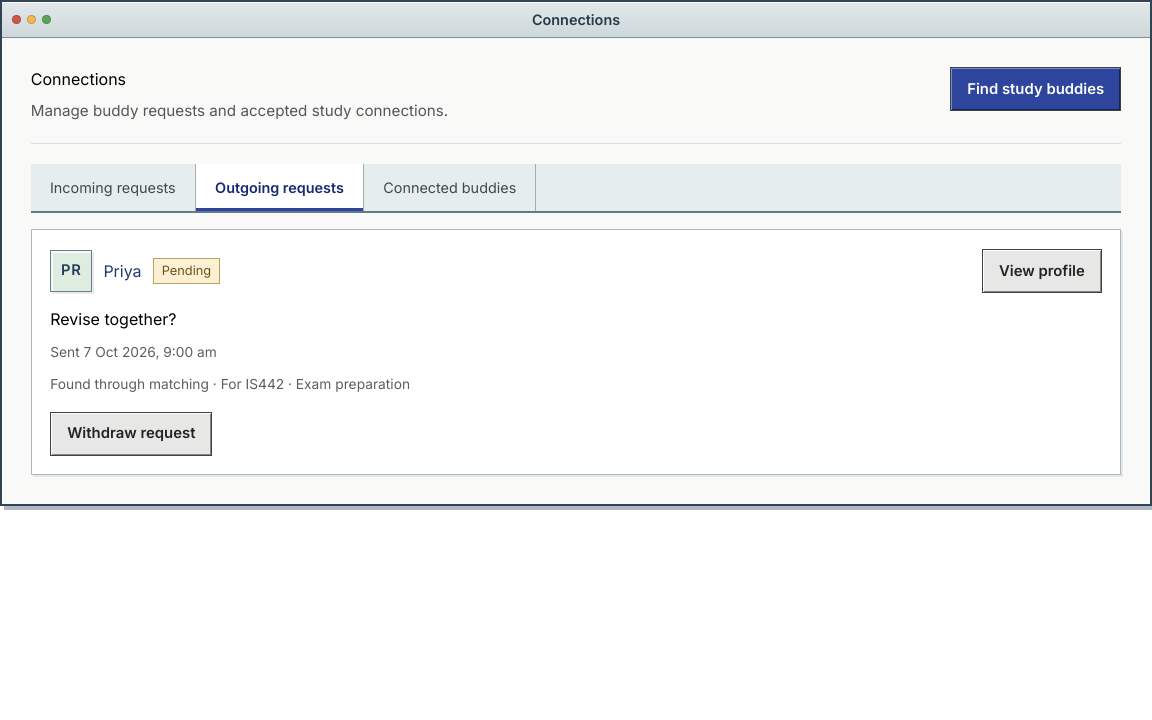
Test: buddy requests and connections › lets the sender withdraw a pending outgoing request after confirming
Click the button "Withdraw request". click: coordinates (131, 434)
box: [50,412,212,456]
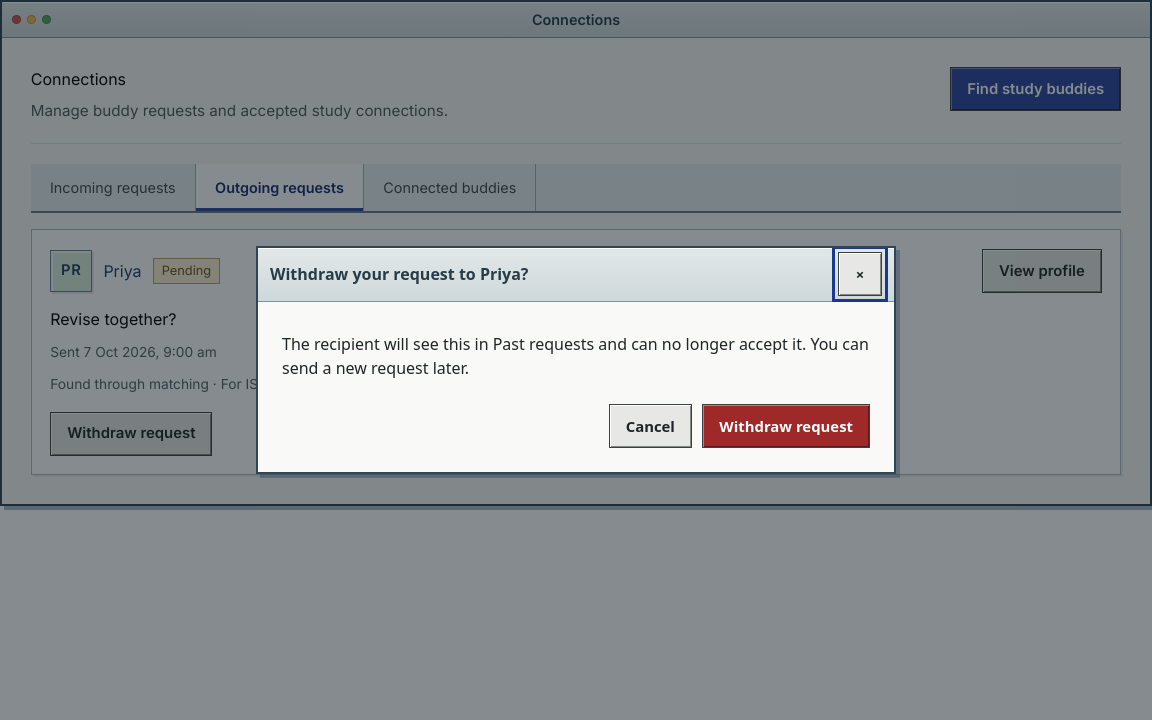
Click the button "Withdraw request". click: coordinates (786, 426)
box: [702,404,870,448]
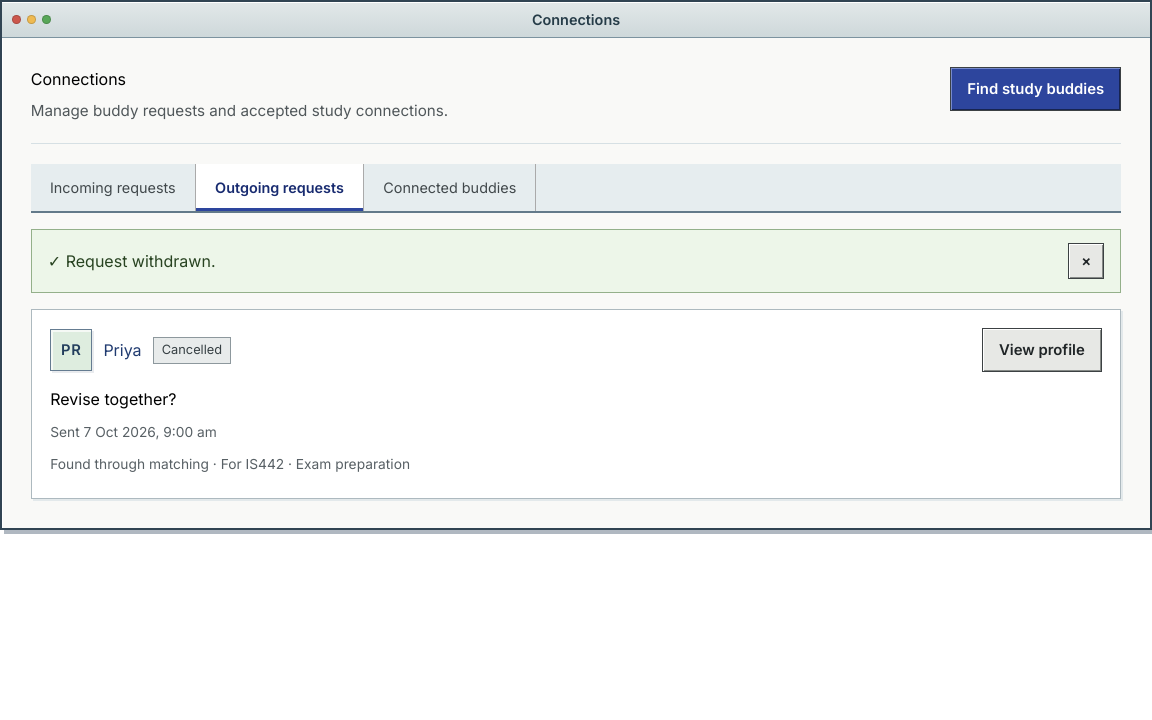
Check: the text "Request withdrawn." is shown, box [66,251,216,271]
Check: the button "Withdraw request" is gone
